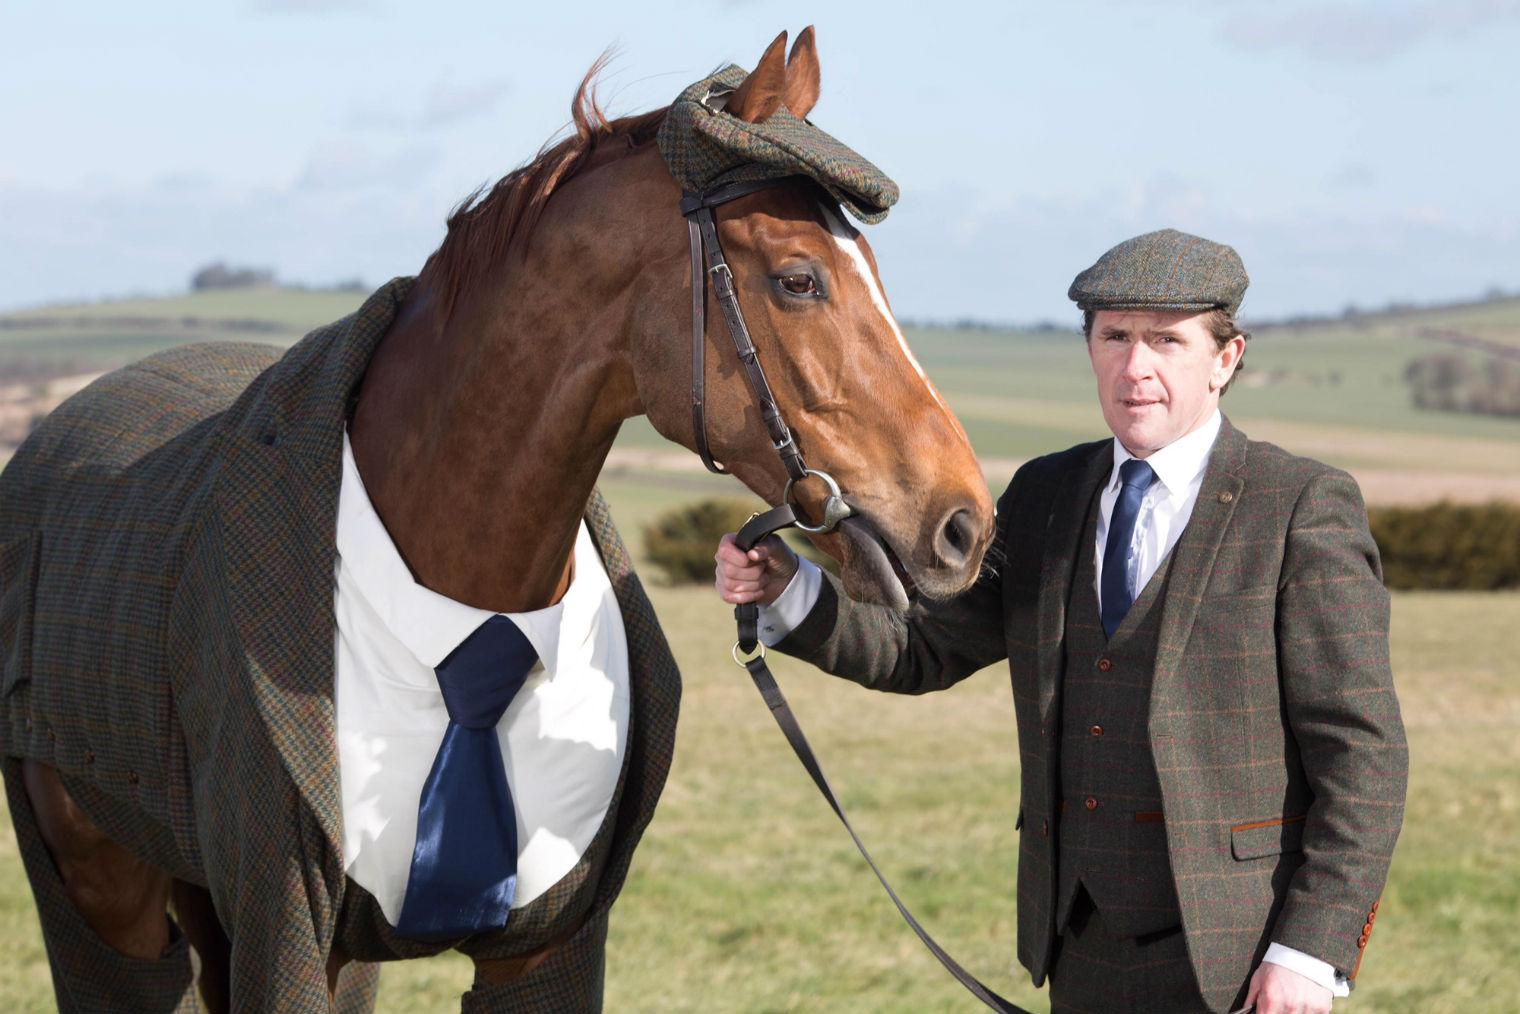Horse: (24, 34, 1018, 962)
Person: (739, 214, 1403, 999)
